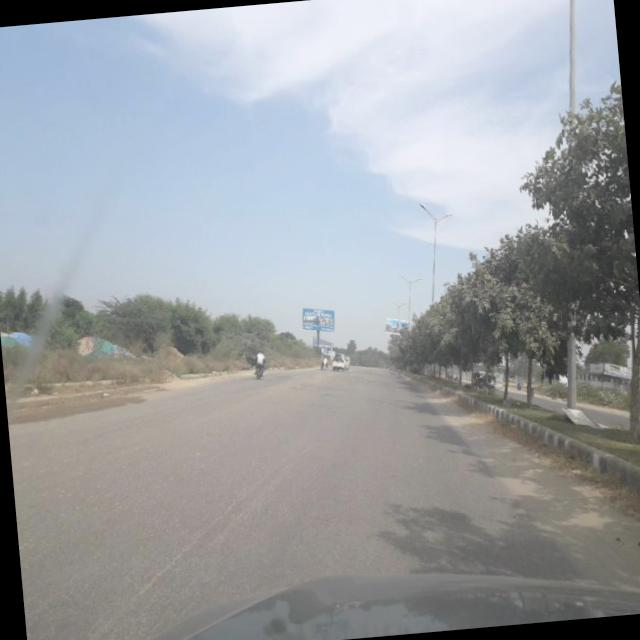crack: (19, 440, 349, 640)
pothole: (52, 425, 316, 640)
